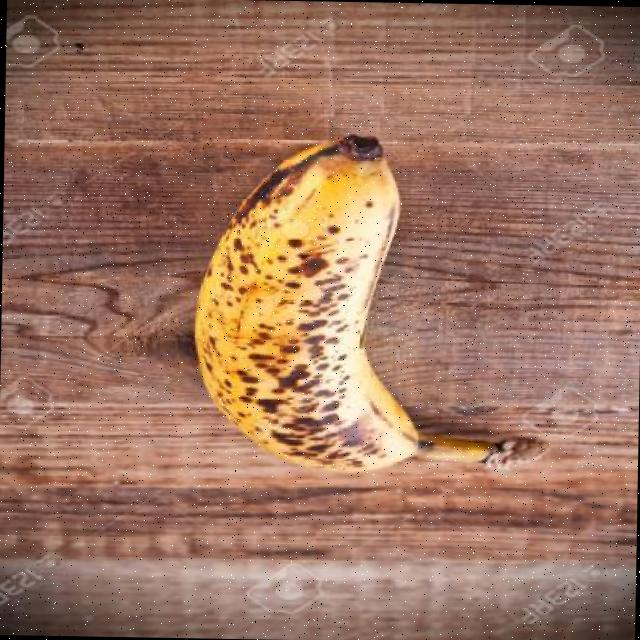banana: (193, 130, 430, 471)
